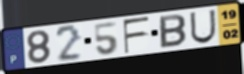2: (54, 24, 86, 65)
5: (93, 20, 120, 57)
8: (26, 29, 52, 65)
B: (158, 13, 188, 50)
F: (121, 15, 151, 55)
U: (189, 9, 218, 45)
